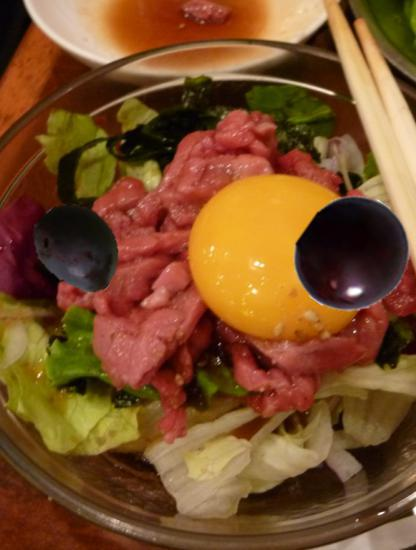Cherry: (293, 195, 413, 315)
Plum: (31, 200, 128, 297)
